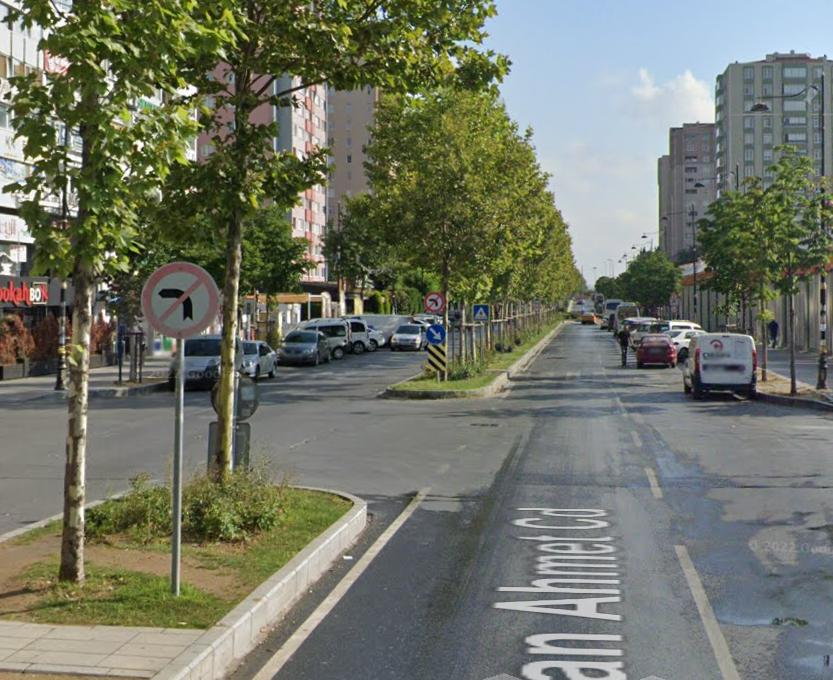leftturnsareforbidden: (144, 263, 219, 339), (425, 290, 444, 314)
